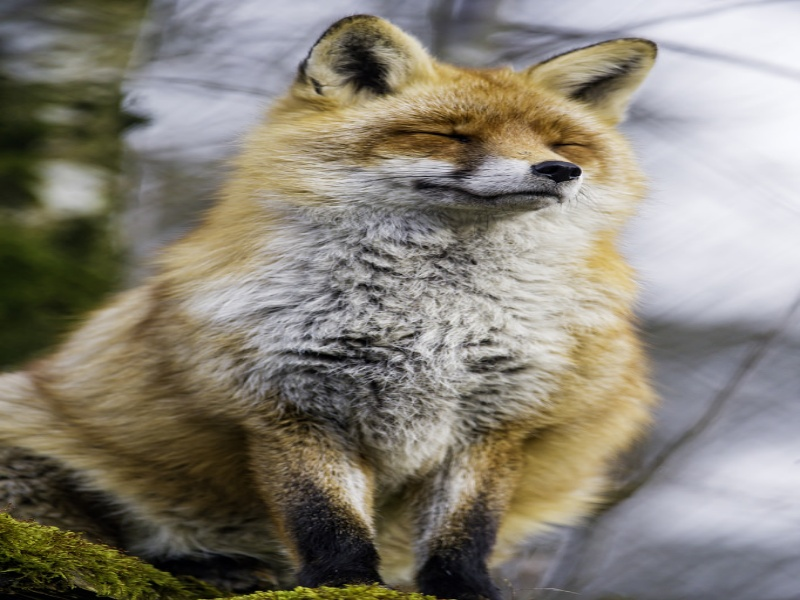fox: (17, 17, 663, 576)
